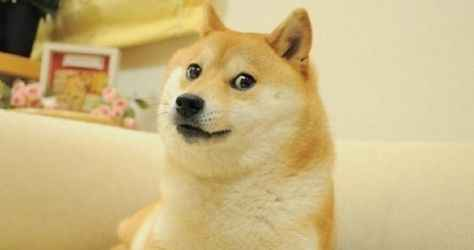doge: (153, 3, 323, 185)
